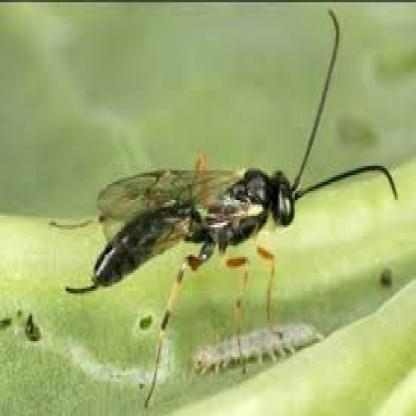sawfly: (51, 11, 398, 365)
